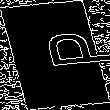P_W: (8, 33, 102, 77)
